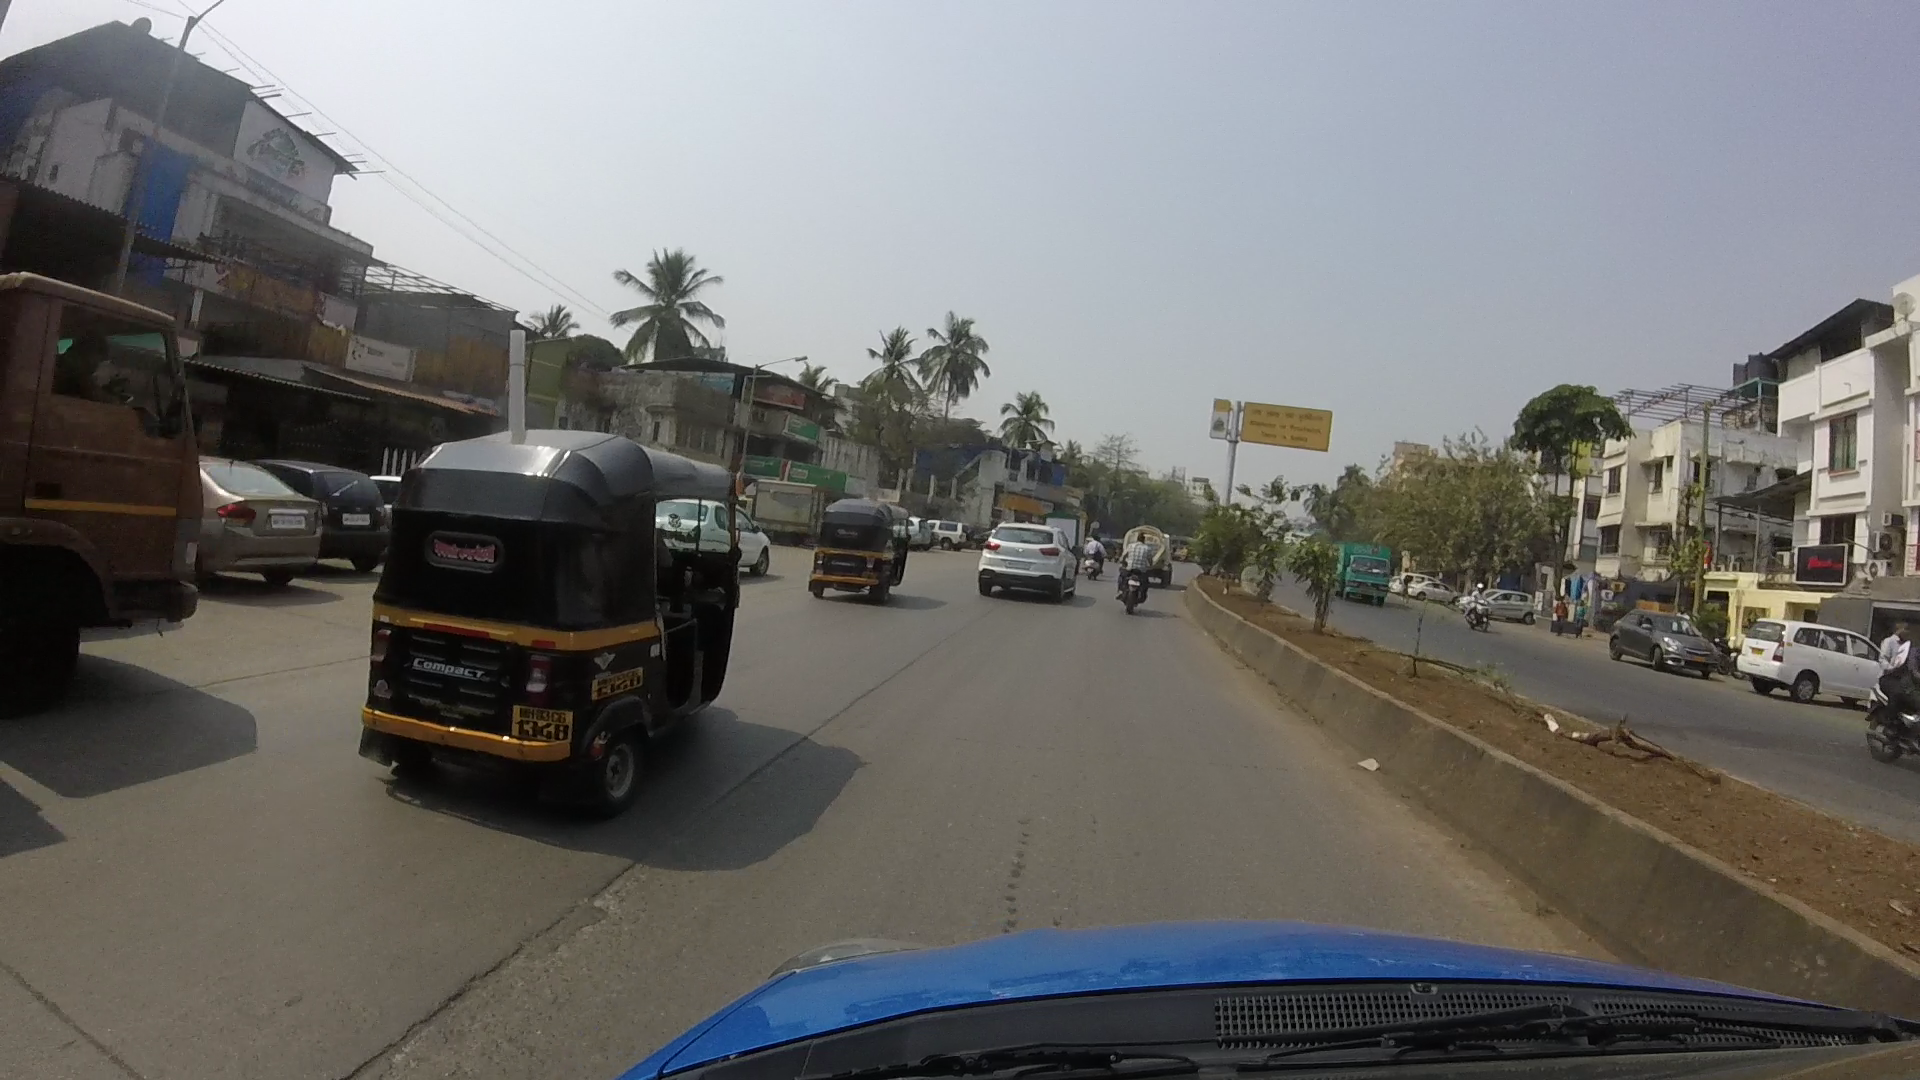bike/scooter: (1105, 527, 1158, 624)
car: (1743, 611, 1875, 713), (1596, 592, 1716, 683), (981, 522, 1081, 601)
rickshaw: (372, 430, 746, 814), (811, 501, 902, 611)
